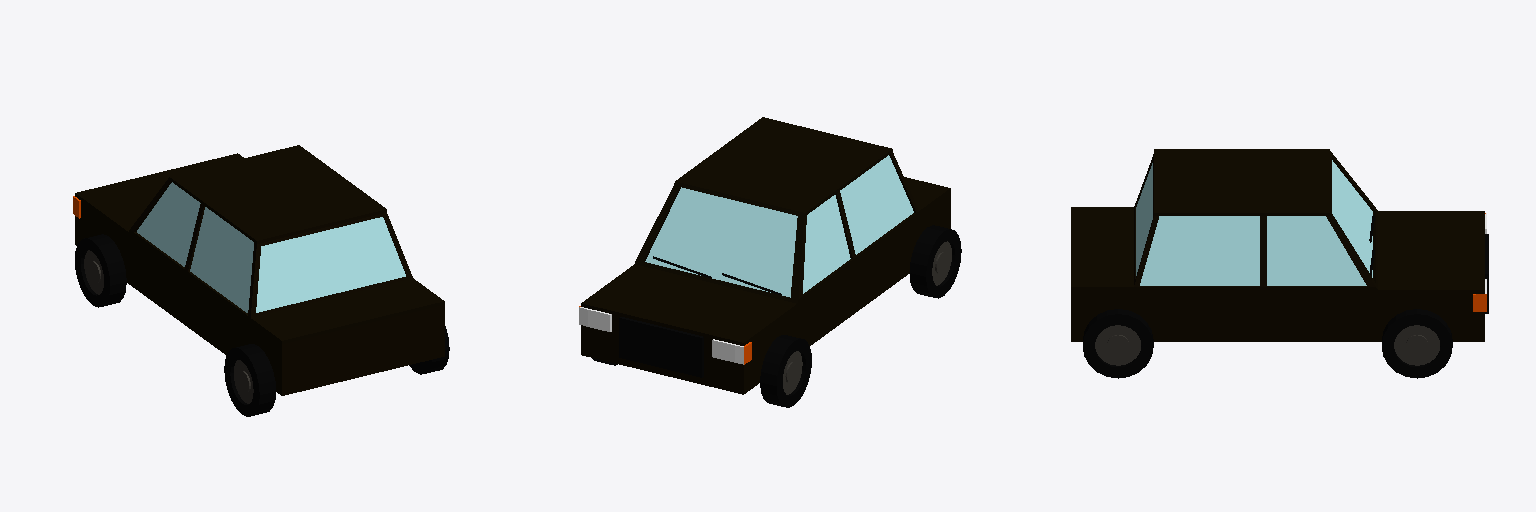
The model's file is Muscle_Brown.obj.
The picture shows the model from 3 angles: view 1: azimuth 30°, elevation 25°; view 2: azimuth 150°, elevation 25°; view 3: azimuth 270°, elevation 25°; orthographic projection.
Visible parts, largest first — view 1: Jeep_Brown; view 2: Jeep_Brown; view 3: Jeep_Brown.
Part boxes in pixels (x1,y1,x2,y2): Jeep_Brown: (73, 145, 449, 416); Jeep_Brown: (579, 117, 961, 407); Jeep_Brown: (1071, 149, 1488, 378).
Size of the model in its own units: 172 by 132 by 328.